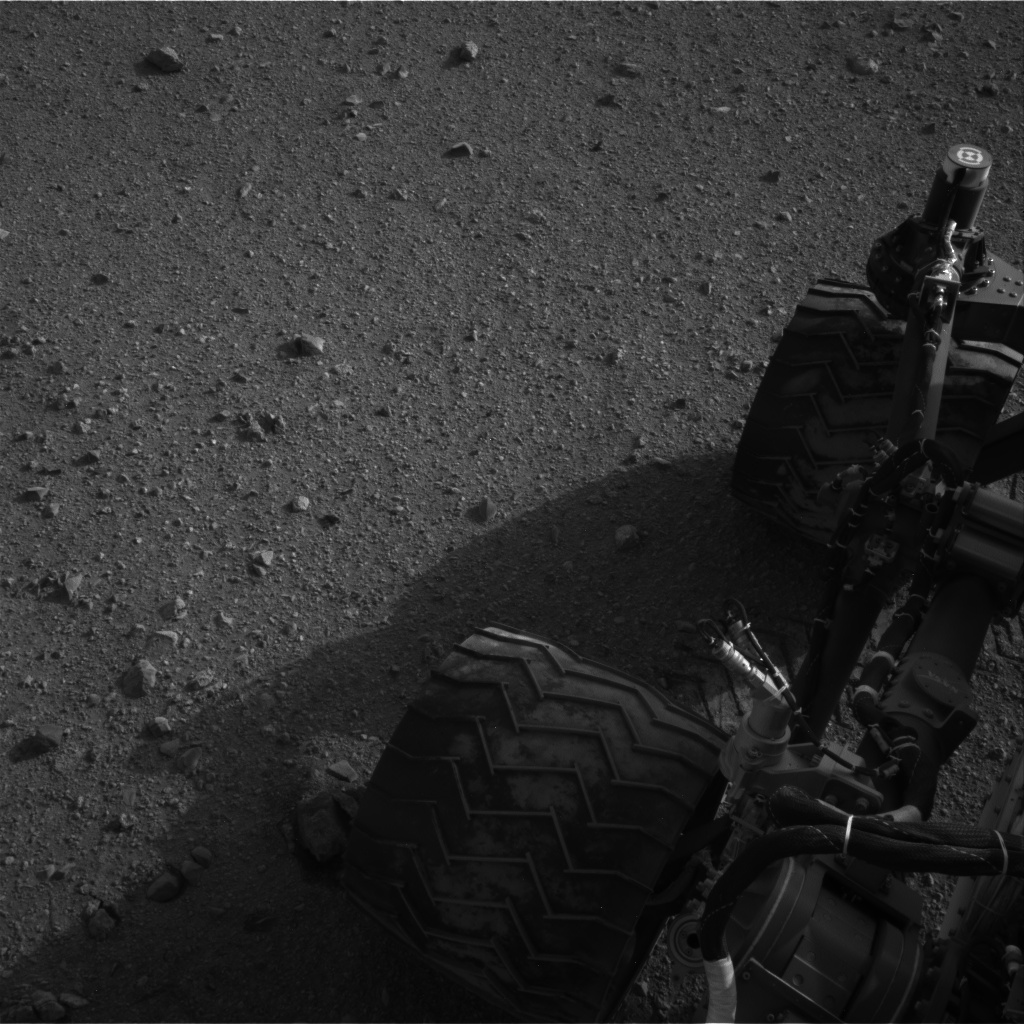soil: (5, 7, 1019, 1019)
